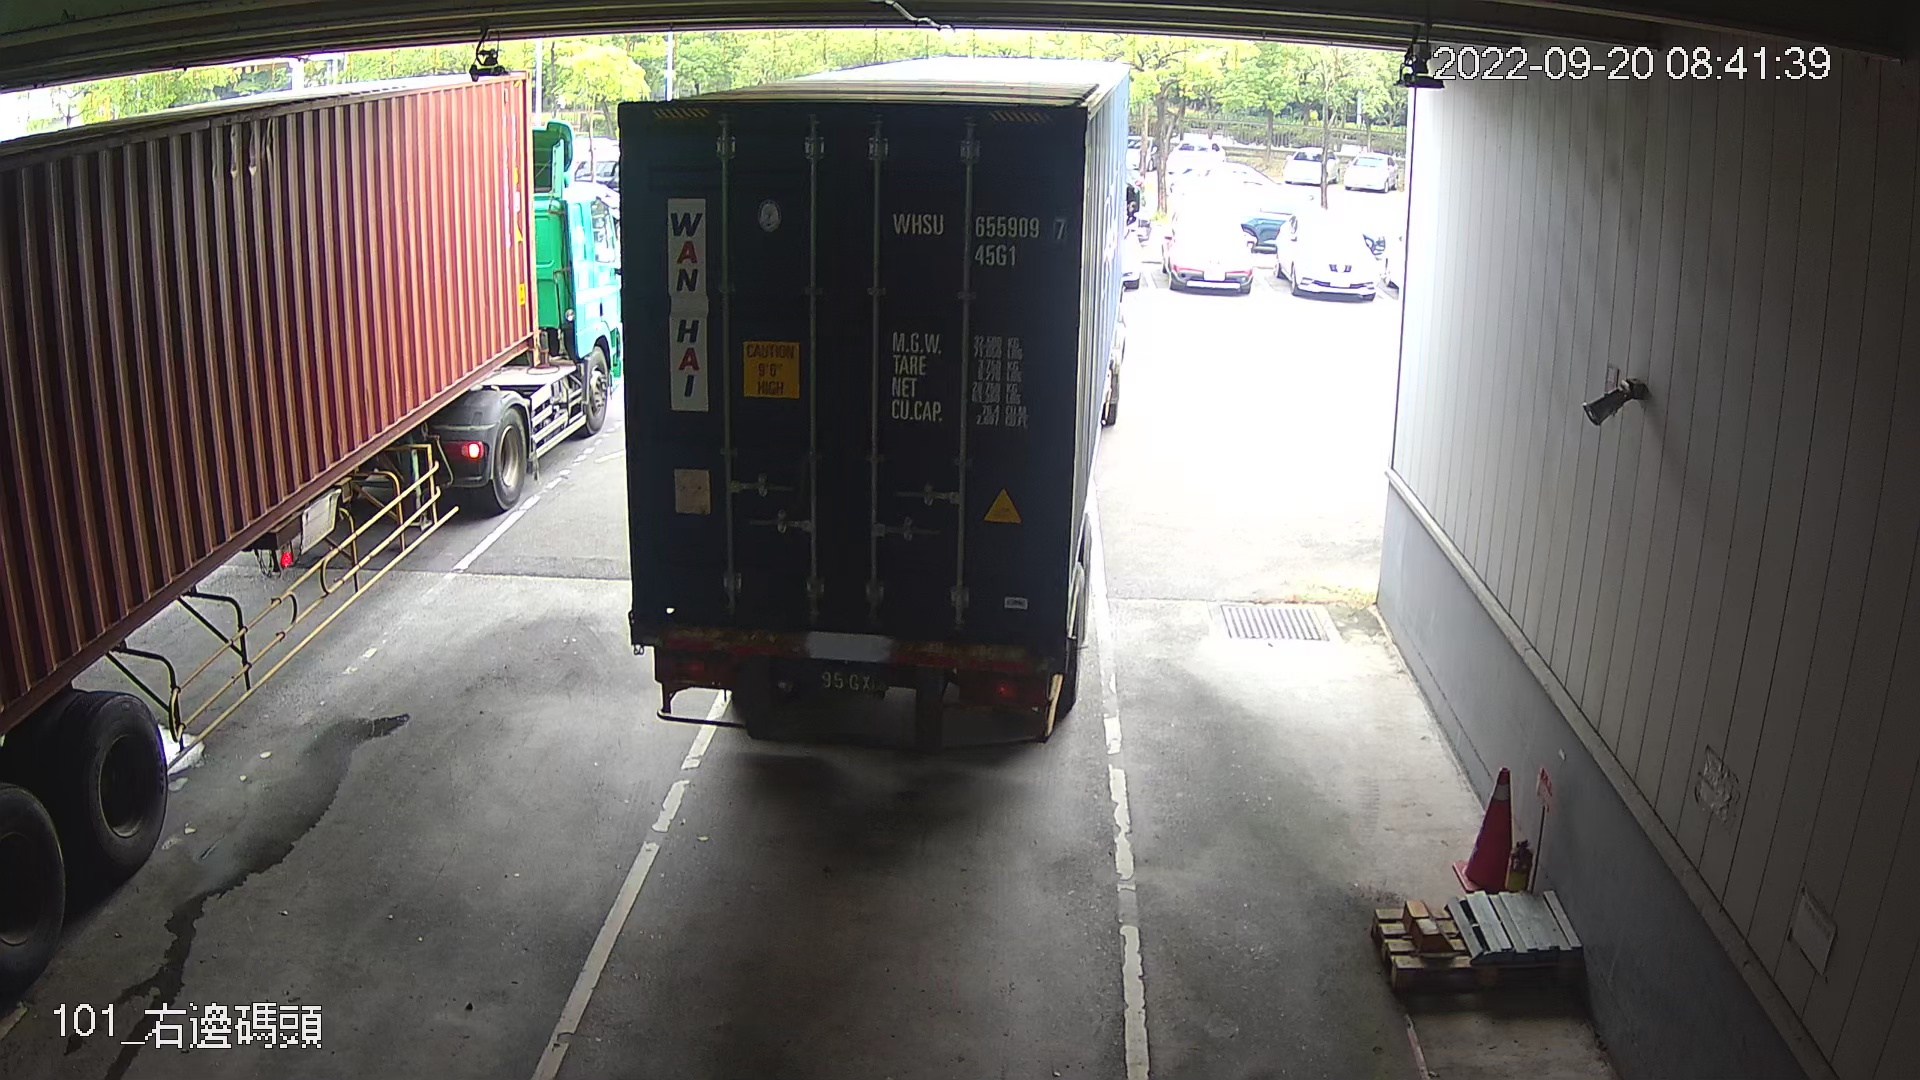container: (882, 199, 1073, 276)
